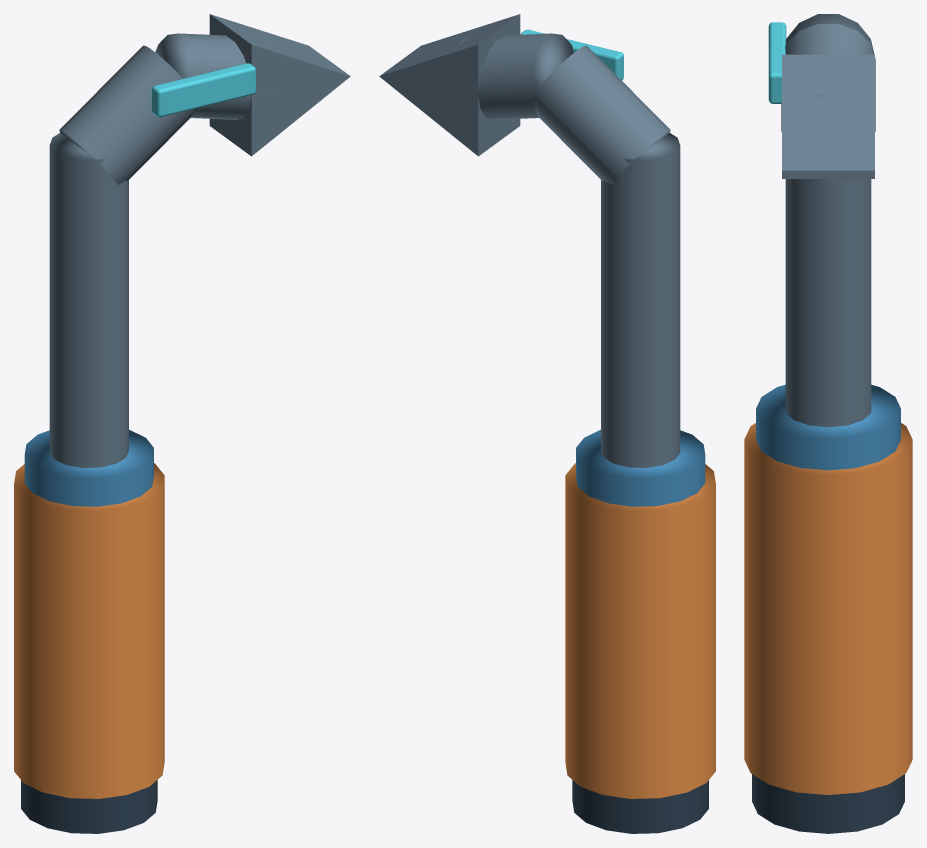
The model's file is salvage_pry_tool.glb.
3 renders of one model, left to right at view 1: azimuth 30°, elevation 25°; view 2: azimuth 150°, elevation 25°; view 3: azimuth 270°, elevation 25°, orthographic. The views are drawn at different scales.
Parts seen in each view (by area): view 1: t09_harvest_salvage_pry; view 2: t09_harvest_salvage_pry; view 3: t09_harvest_salvage_pry.
Part boxes in pixels (bbox=[...]): t09_harvest_salvage_pry: bbox=[14, 14, 350, 833]; t09_harvest_salvage_pry: bbox=[379, 14, 715, 833]; t09_harvest_salvage_pry: bbox=[744, 14, 912, 833].
Bounding box in the file's own units: 0.401 × 0.9326 × 0.172.
